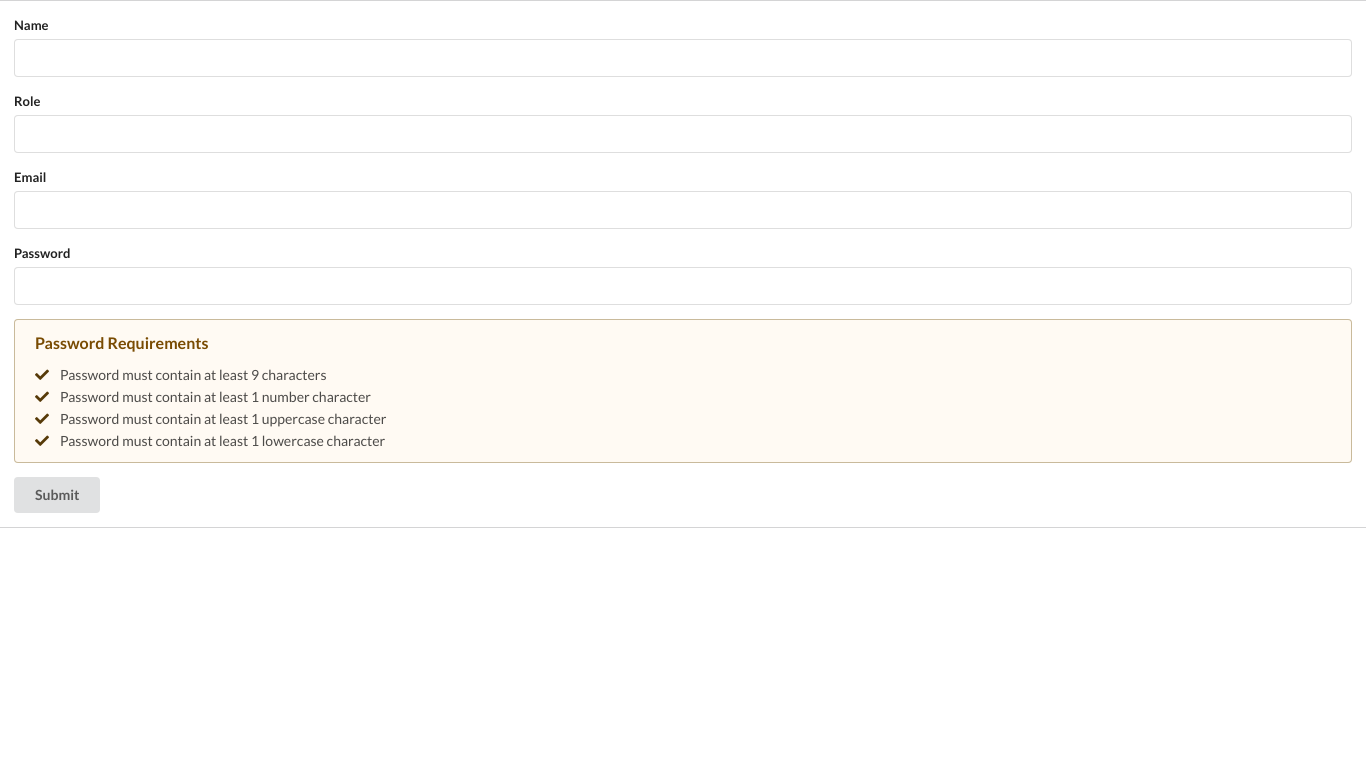
Scenario: <FirstName /> › should show a specific error message when password is invalid and email is empty
Expected: the text "Oops! This field is required" is not shown
In the password field labelled "Password": (683, 286) [14,267,1352,305], type "invalidpa"
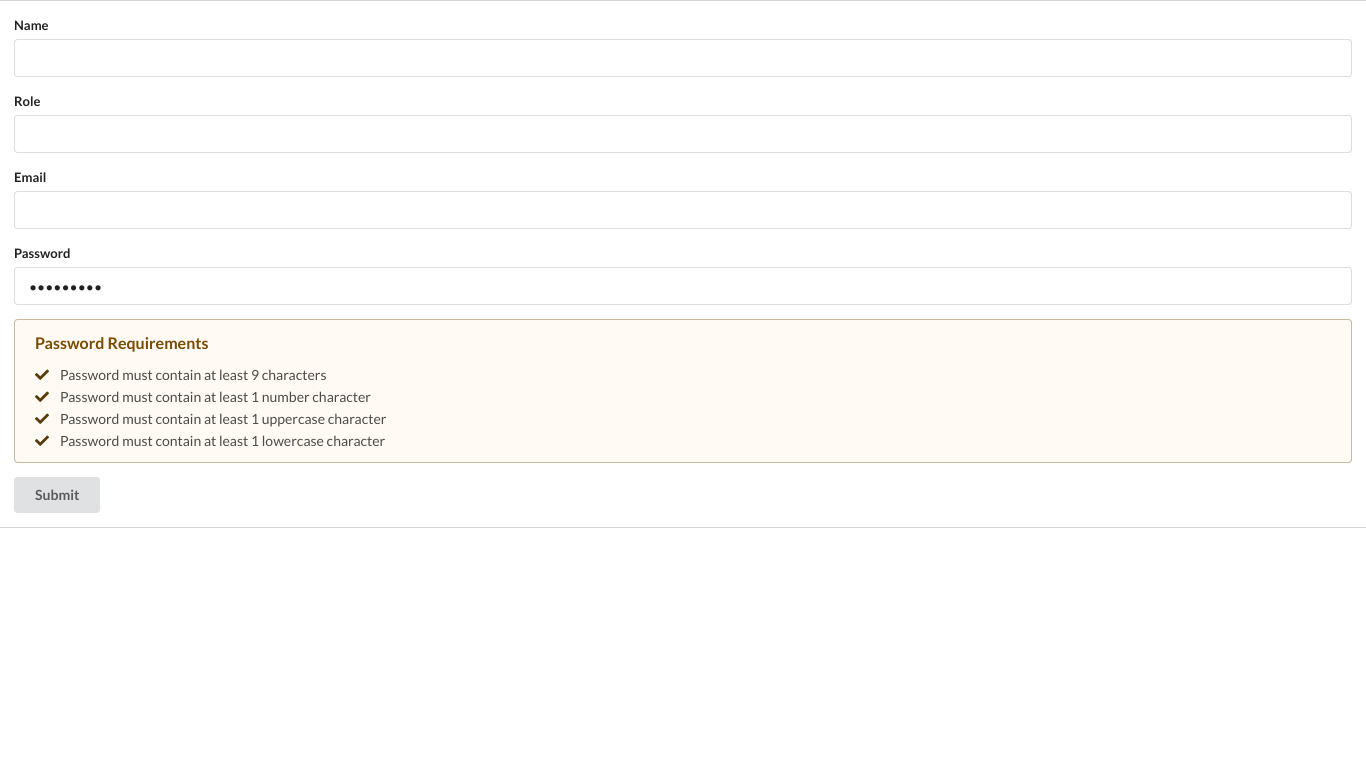
In the field labelled "Name": (683, 58) [14,39,1352,77], type "Test"
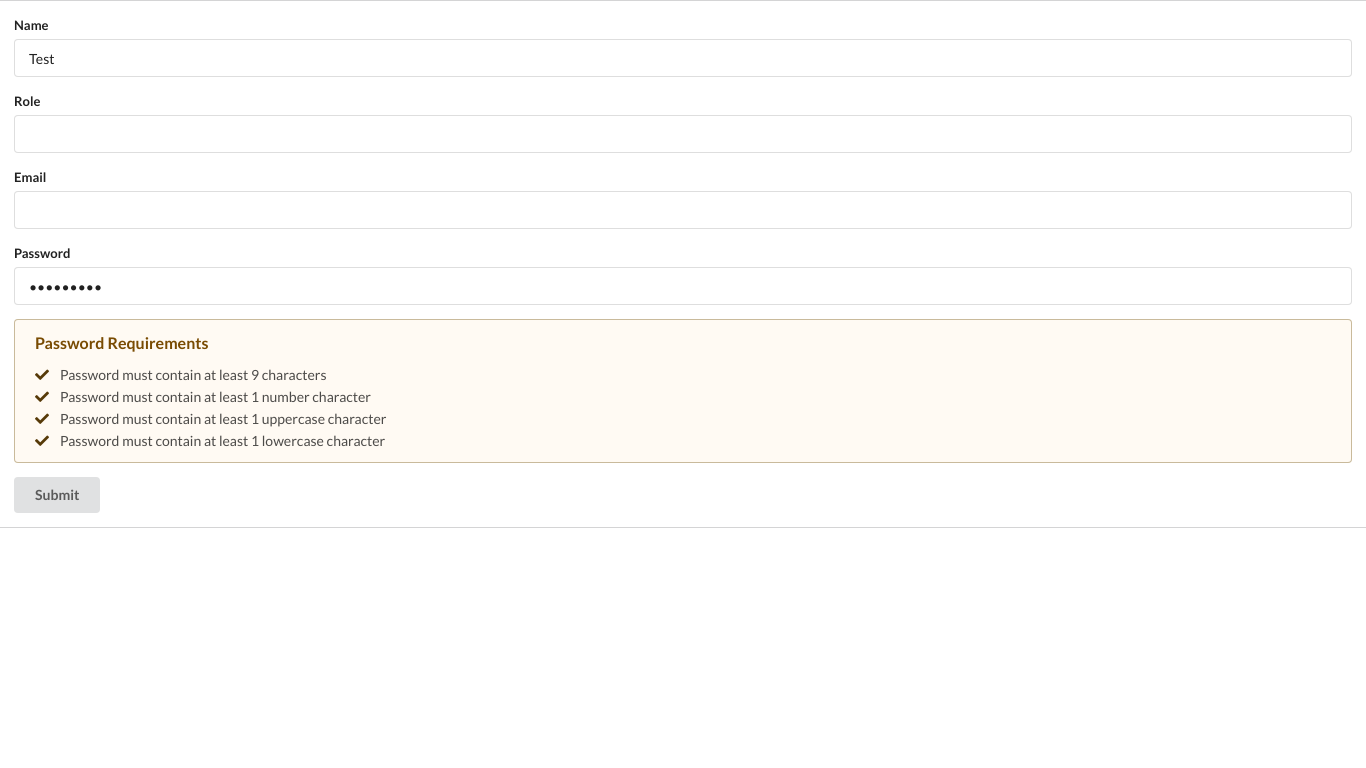
Click the button "Submit": click(57, 495) [14,477,100,513]
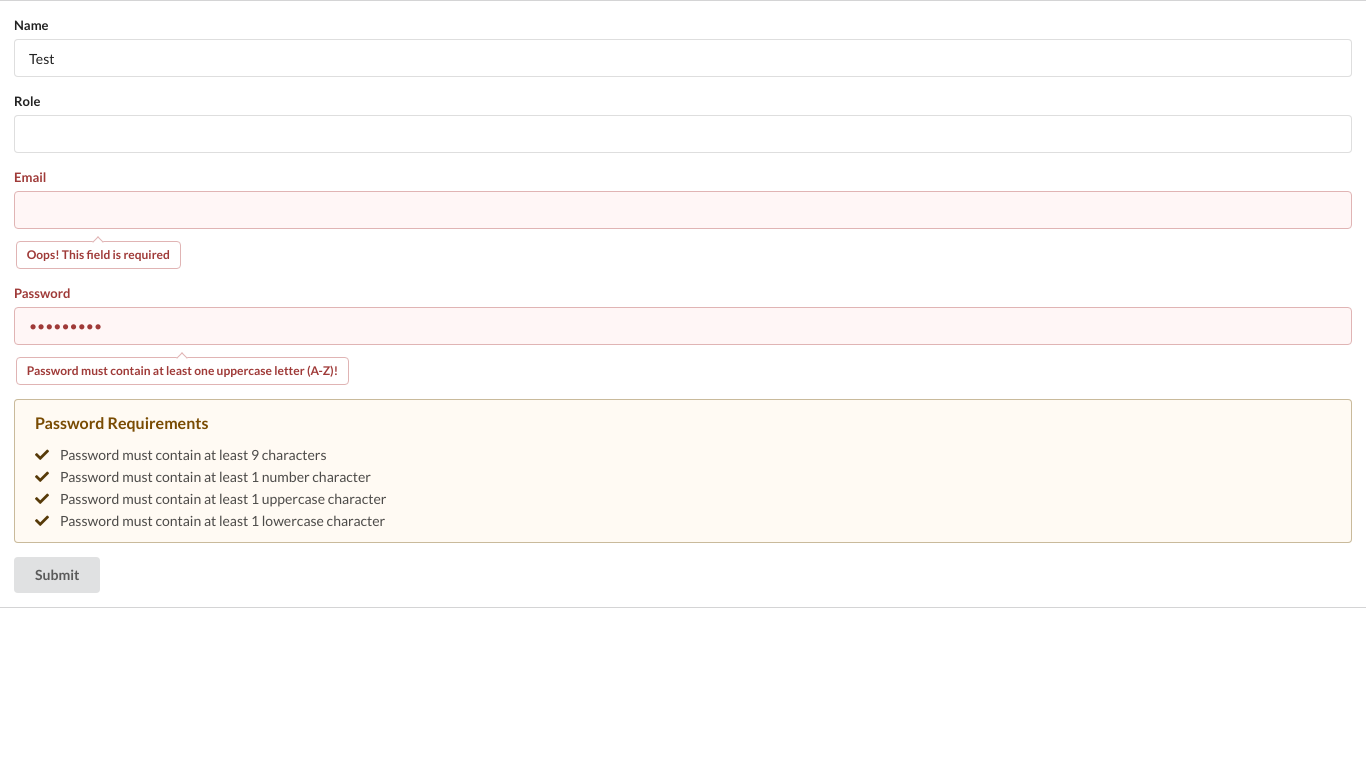
Now the text "Password must contain at least one uppercase letter (A-Z)!" is shown, box [16,357,349,385]
Now the text "Oops! This field is required" is shown, box [16,241,181,269]
